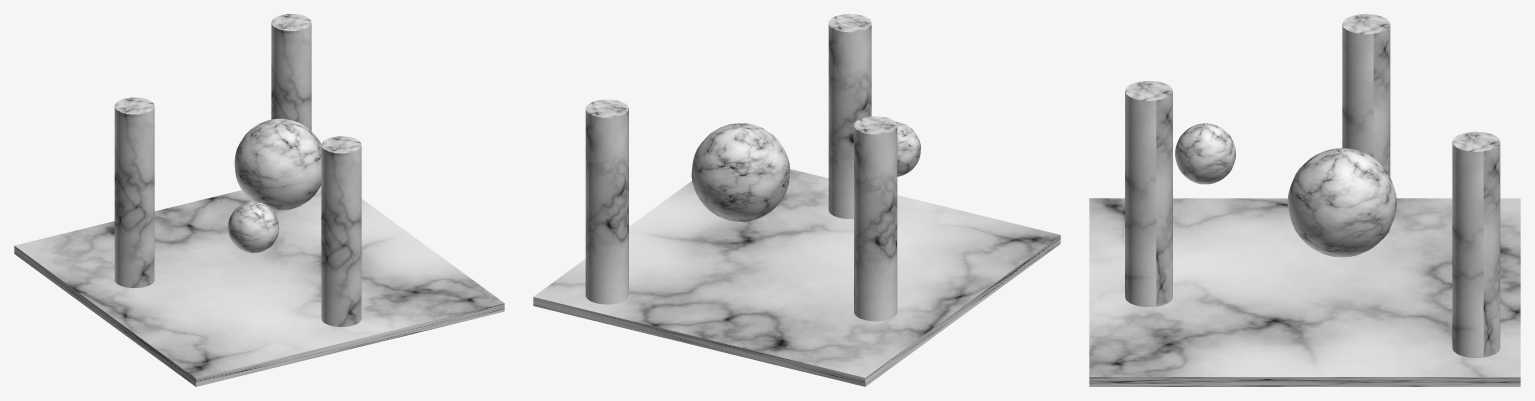
The model's file is openGl.obj.
3 renders of one model, left to right at view 1: azimuth 30°, elevation 25°; view 2: azimuth 150°, elevation 25°; view 3: azimuth 270°, elevation 25°, orthographic. The views are drawn at different scales.
Visible parts, largest first — view 1: openGl:pCube1, openGl:pCylinder2, openGl:pCylinder3, openGl:pSphere1, openGl:pCylinder1, openGl:pSphere2; view 2: openGl:pCube1, openGl:pCylinder1, openGl:pCylinder3, openGl:pSphere1, openGl:pCylinder2, openGl:pSphere2; view 3: openGl:pCube1, openGl:pCylinder1, openGl:pCylinder2, openGl:pSphere1, openGl:pCylinder3, openGl:pSphere2.
Boxes of the visible parts, left/top/right/bottom form: openGl:pCube1: left=14, top=185, right=504, bottom=386; openGl:pCylinder2: left=321, top=136, right=361, bottom=326; openGl:pCylinder3: left=114, top=97, right=154, bottom=288; openGl:pSphere1: left=234, top=118, right=321, bottom=210; openGl:pCylinder1: left=271, top=14, right=311, bottom=130; openGl:pSphere2: left=228, top=201, right=279, bottom=253; openGl:pCube1: left=533, top=169, right=1060, bottom=386; openGl:pCylinder1: left=585, top=99, right=628, bottom=304; openGl:pCylinder3: left=854, top=116, right=897, bottom=321; openGl:pSphere1: left=691, top=123, right=789, bottom=221; openGl:pCylinder2: left=828, top=14, right=871, bottom=218; openGl:pSphere2: left=896, top=122, right=920, bottom=176; openGl:pCube1: left=1089, top=198, right=1520, bottom=386; openGl:pCylinder1: left=1452, top=131, right=1500, bottom=357; openGl:pCylinder2: left=1125, top=80, right=1172, bottom=306; openGl:pSphere1: left=1287, top=148, right=1396, bottom=257; openGl:pCylinder3: left=1342, top=14, right=1390, bottom=235; openGl:pSphere2: left=1175, top=123, right=1235, bottom=184.
Bounding box in the file's own units: 23.58 × 13.29 × 24.04.
Materials: 1 (1 with a texture image).
